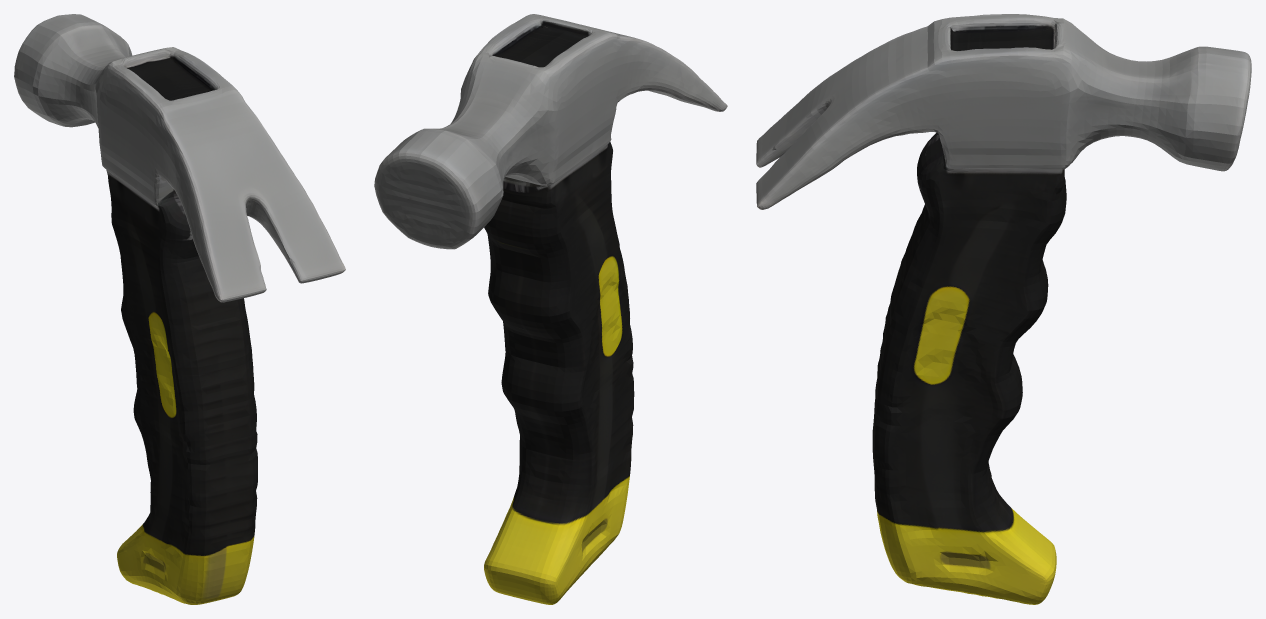
The model's file is hammer_scaled.glb.
3 views of the same model, side by side, from view 1: azimuth 30°, elevation 25°; view 2: azimuth 150°, elevation 25°; view 3: azimuth 270°, elevation 25° (orthographic). The views are drawn at different scales.
Parts seen in each view (by area): view 1: model; view 2: model; view 3: model.
Boxes of the visible parts, x1,y1,x2,y2 form: model: (14,14,345,604); model: (374,14,727,604); model: (756,14,1251,604).
Size of the model in its own units: 0.0734 by 0.285 by 0.2289.
1 material, 1 textured.
